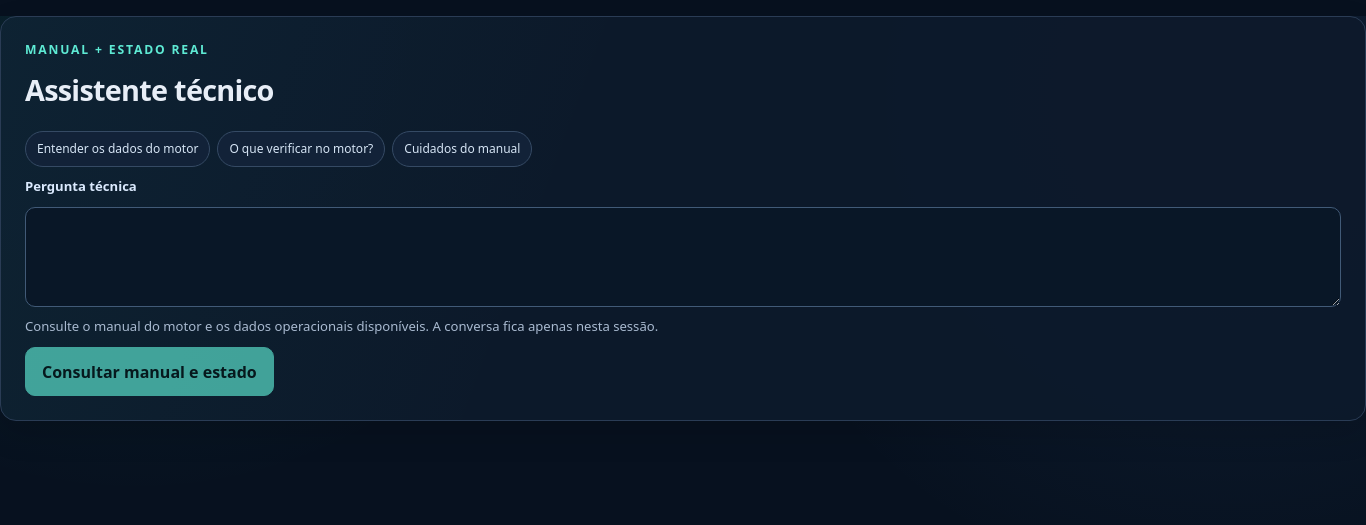
Scenario: TechnicalAssistantPanel explicit safety states › sanitizes an unreachable service instead of fabricating or echoing detail
In the text box labelled "Pergunta técnica": point(683, 257) [25,207,1341,307], type "Qual é o estado?"
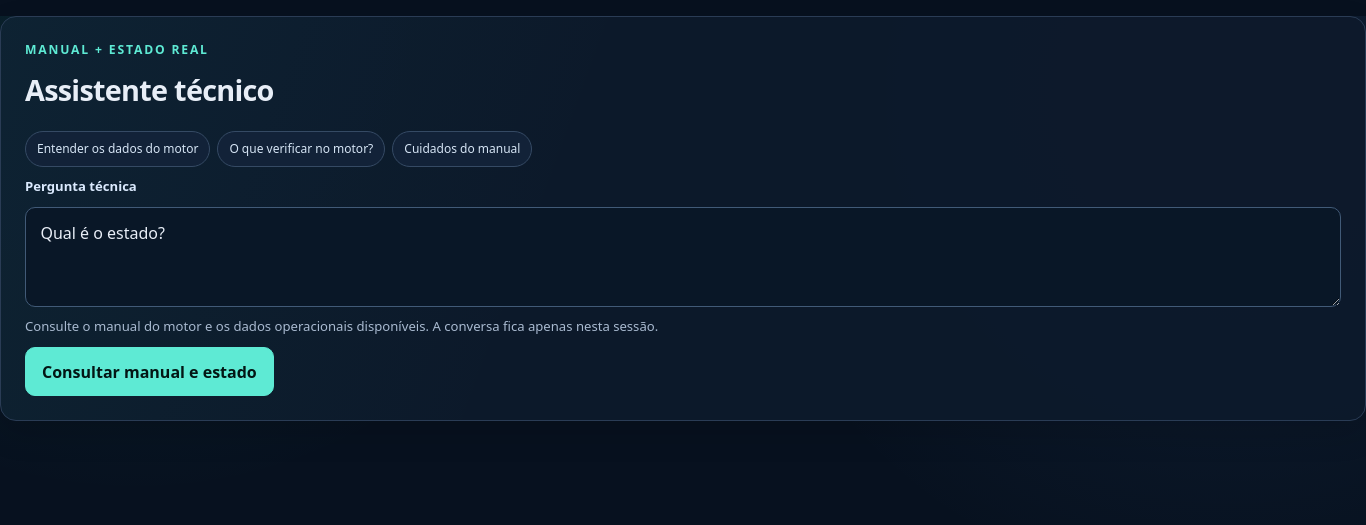
Submit the form named "Consultar o assistente técnico", box [25,177,1341,396]
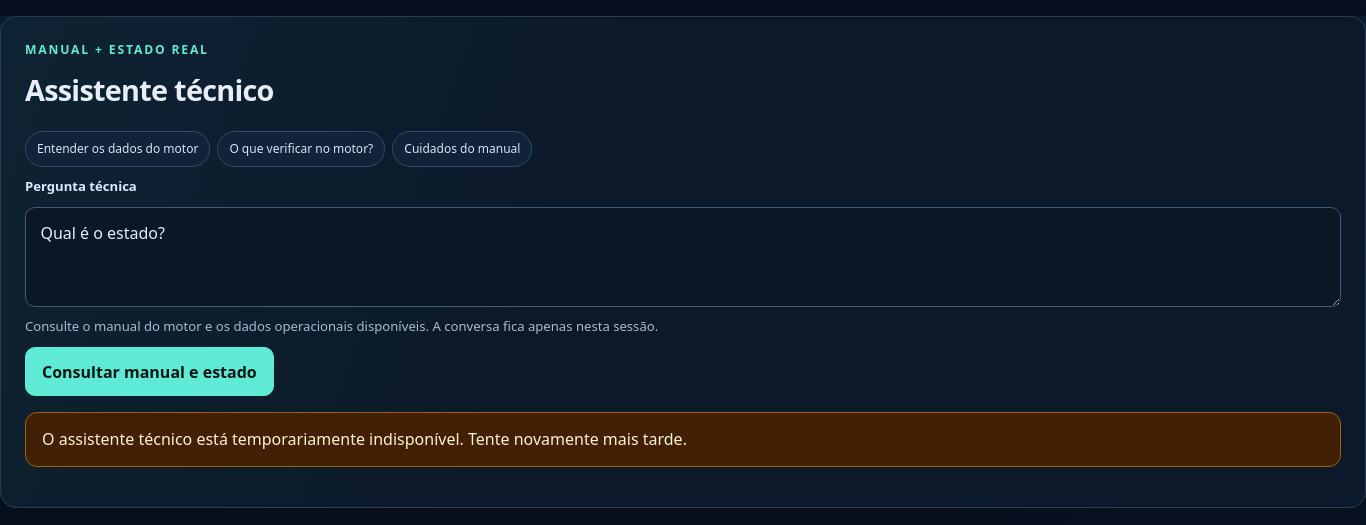
Result: the message shows "temporariamente indisponível" at [42,428,687,450]
